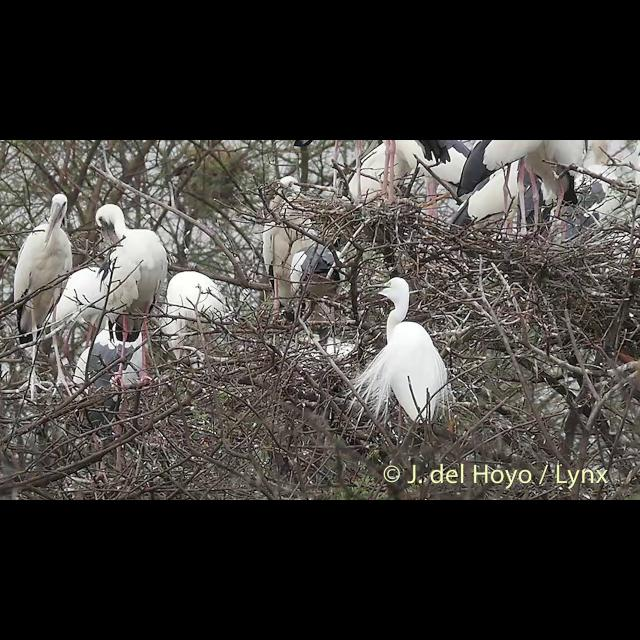egret: (358, 273, 452, 413), (92, 190, 168, 314), (15, 193, 76, 331)
